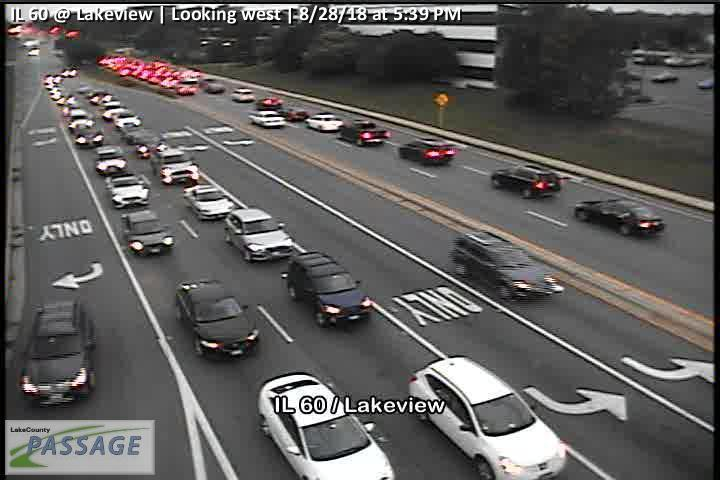SUV: (445, 233, 567, 303), (18, 299, 96, 407), (287, 251, 374, 329), (224, 207, 294, 265), (574, 197, 666, 239), (491, 165, 561, 200), (151, 148, 199, 185), (231, 88, 256, 103)
Sedan: (408, 355, 567, 480), (256, 372, 395, 480), (175, 278, 259, 358), (122, 209, 176, 257), (183, 185, 237, 224), (399, 136, 457, 165), (337, 120, 392, 148), (108, 174, 151, 209), (94, 144, 128, 177), (305, 113, 344, 132), (248, 110, 286, 129), (276, 106, 310, 122), (257, 96, 284, 112)
